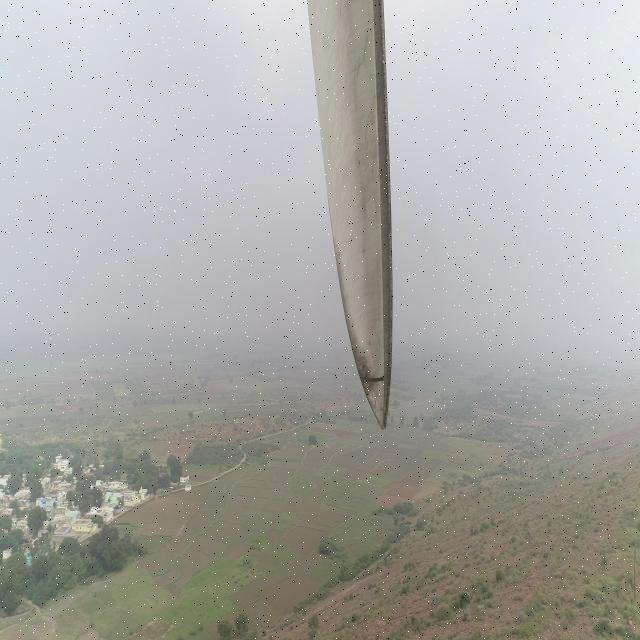Dirt: (309, 0, 390, 425)
Oil LEAKAGE: (358, 364, 386, 387)
